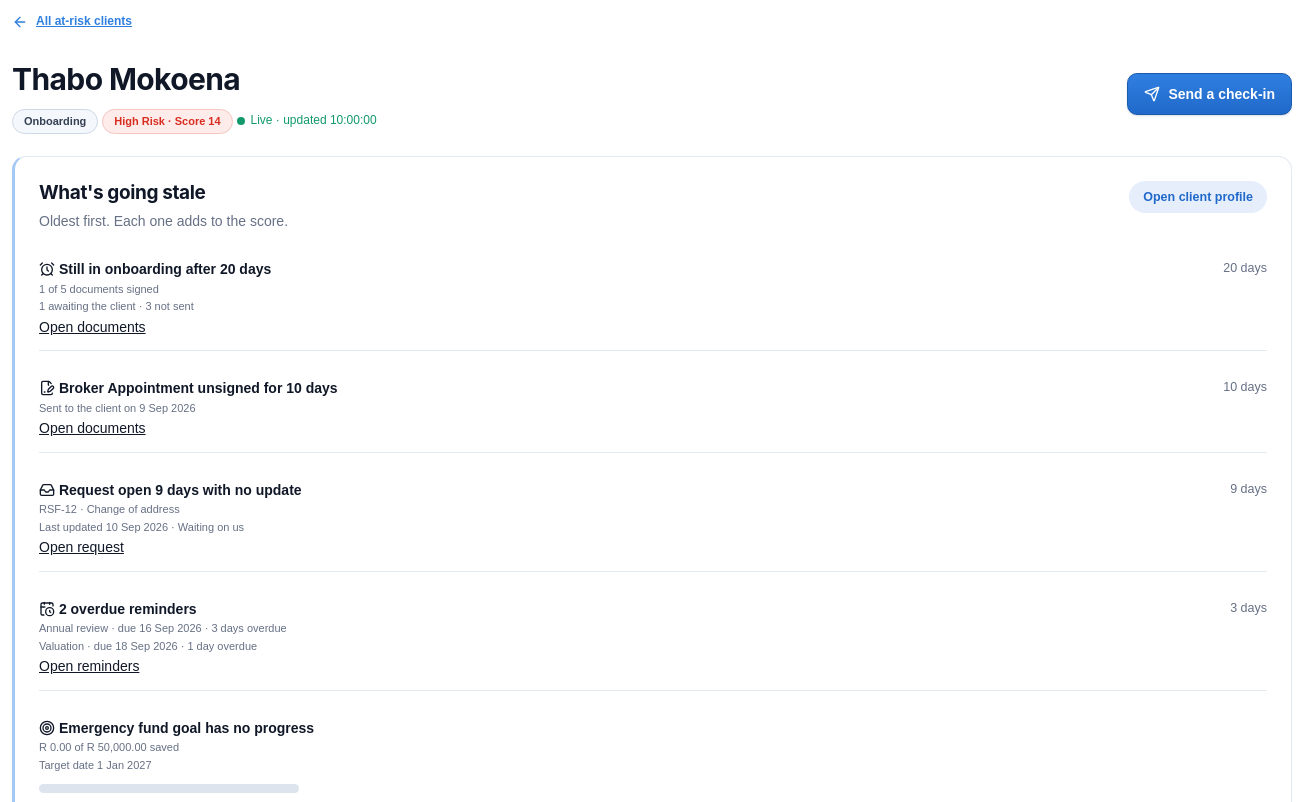
Client Pulse drill-down › shows the real error, and no confirmation, when the check-in fails
Click the button "Send a check-in" at coordinates (1210, 94), box left=1127, top=72, right=1292, bottom=115
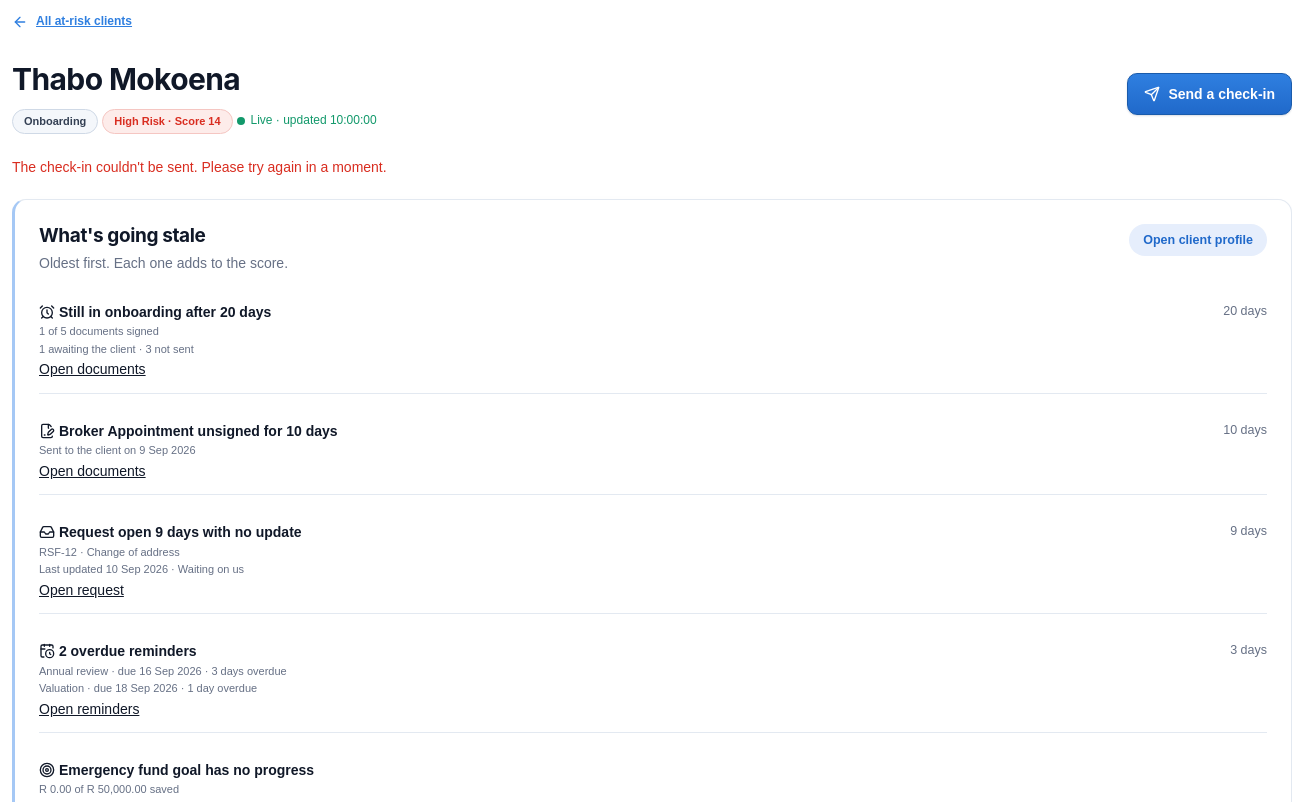
Expected: the message "The check-in couldn't be sent. Please try again in a moment." is shown, left=12, top=159, right=387, bottom=175
